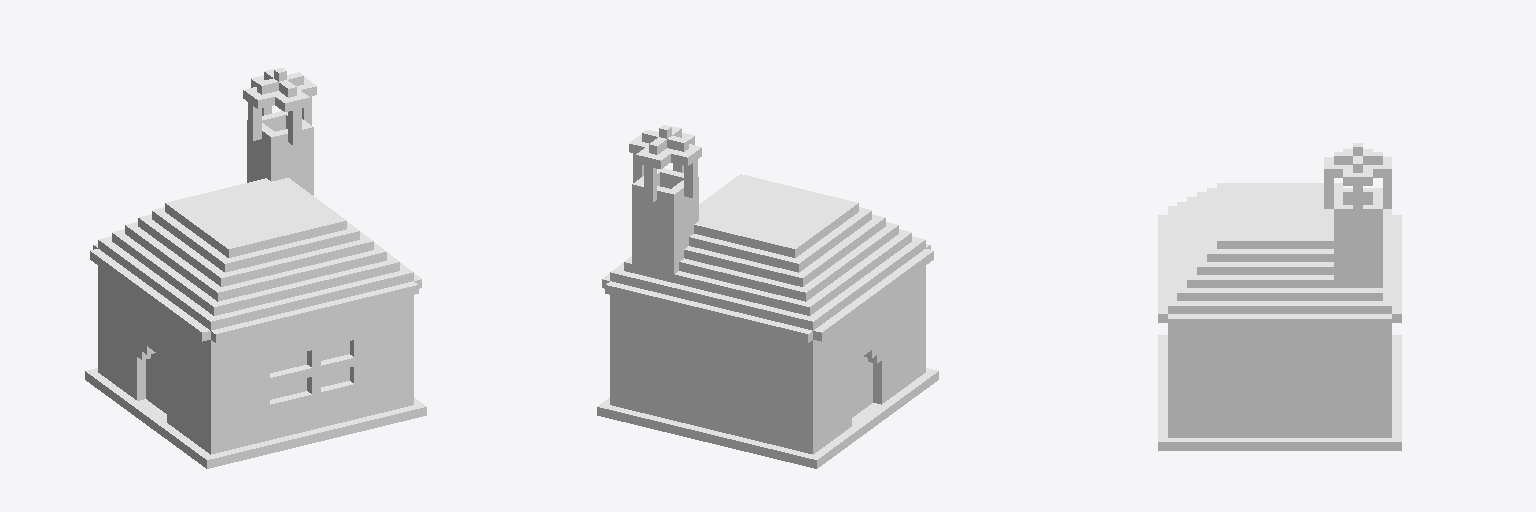
File: Farm.obj
The picture shows the model from 3 angles: view 1: azimuth 30°, elevation 25°; view 2: azimuth 150°, elevation 25°; view 3: azimuth 270°, elevation 25°; orthographic projection.
Visible parts, largest first — view 1: object 1; view 2: object 1; view 3: object 1.
Part boxes in pixels (x1,y1,x2,y2): object 1: (85, 68, 426, 468); object 1: (597, 125, 938, 468); object 1: (1158, 143, 1401, 450).
Size of the model in its own units: 2.6 by 3.2 by 2.5.